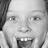neutral: (2, 2, 46, 46)
surprise: (2, 2, 46, 46)
